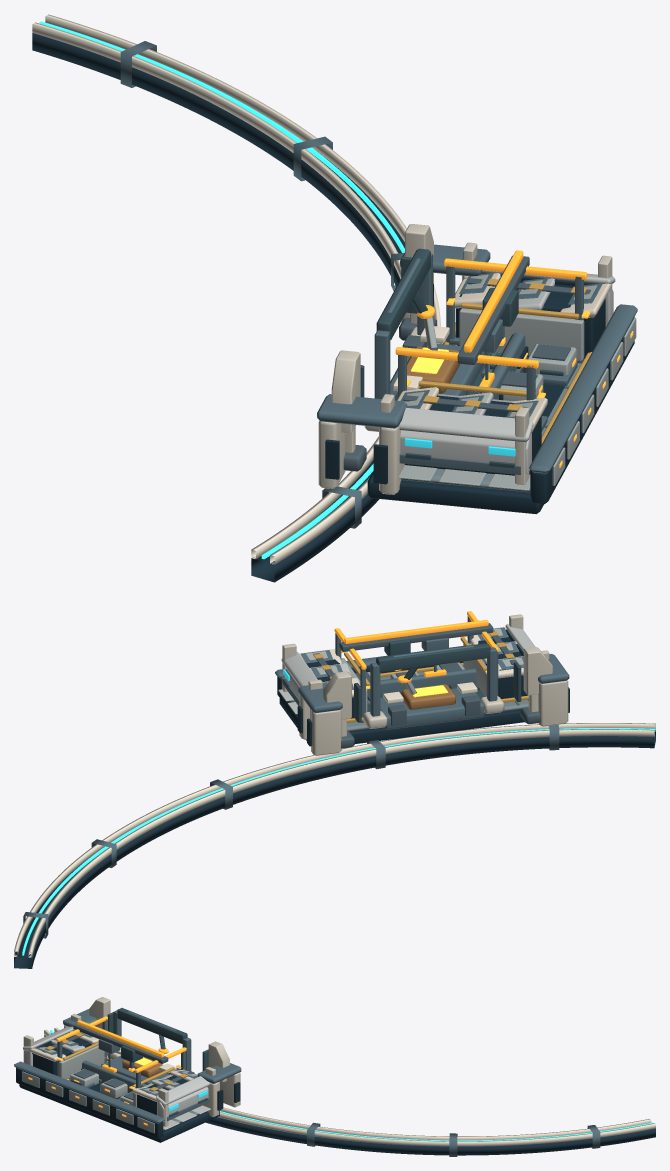
Rendered from equipment.glb.
3 renders of one model, top to bottom at view 1: azimuth 30°, elevation 25°; view 2: azimuth 150°, elevation 25°; view 3: azimuth 270°, elevation 25°, orthographic. The views are drawn at different scales.
Parts seen in each view (by area): view 1: Fine orbital pressure web.002, Fine ivory rail head.004, Fine ivory rail head.005, Manufacturing outer ivory sill, Manufacturing full pressure sole, Fabrication room armored inner wall.001, Fabrication continuous roof load shoulder, Orbital tram guide.002, Fabrication room continuous side pressure shell, Manufacturing track entry lintel, Overhead fabrication gantry, Manufacturing sloped load shoulder (+17 smaller); view 2: Fine orbital pressure web.002, Fine ivory rail head.004, Fine ivory rail head.005, Manufacturing full pressure sole, Overhead fabrication gantry, Orbital tram guide.002, Manufacturing recessed machine bed, Manufacturing track entry armor cheek.003, Manufacturing track entry armor cheek.001, Manufacturing outer pressure cavity wall, Factory traveling bridge dark undercarriage, Manufacturing sloped load shoulder (+8 smaller); view 3: Fine orbital pressure web.002, Fine ivory rail head.005, Fine ivory rail head.004, Manufacturing outer dark pressure sidewall, Manufacturing outer ivory sill, Manufacturing full pressure sole, Overhead fabrication gantry, Fabrication room armored inner wall, Orbital tram guide.002, Fabrication continuous roof load shoulder.001, Factory traveling bridge dark undercarriage, Fabrication room continuous dark hull (+14 smaller).
Part boxes in pixels (box(x1,y1,x2,y2)): Fine orbital pressure web.002: box(32, 33, 433, 582); Fine ivory rail head.004: box(32, 22, 401, 559); Fine ivory rail head.005: box(45, 14, 440, 564); Manufacturing outer ivory sill: box(529, 304, 637, 473); Manufacturing full pressure sole: box(367, 342, 543, 514); Fabrication room armored inner wall.001: box(459, 308, 584, 360); Fabrication continuous roof load shoulder: box(398, 407, 533, 442); Orbital tram guide.002: box(39, 21, 404, 559); Fabrication room continuous side pressure shell: box(400, 430, 531, 474); Manufacturing track entry lintel: box(317, 394, 407, 428); Overhead fabrication gantry: box(376, 248, 430, 339); Manufacturing sloped load shoulder: box(331, 350, 360, 433); Fine orbital pressure web.002: box(14, 730, 655, 968); Fine ivory rail head.004: box(28, 729, 654, 957); Fine ivory rail head.005: box(14, 723, 655, 956); Manufacturing full pressure sole: box(279, 695, 524, 743); Overhead fabrication gantry: box(376, 643, 490, 671); Orbital tram guide.002: box(22, 728, 655, 955); Manufacturing recessed machine bed: box(380, 688, 485, 729); Manufacturing track entry armor cheek.003: box(311, 709, 341, 755); Manufacturing track entry armor cheek.001: box(538, 680, 568, 726); Manufacturing outer pressure cavity wall: box(366, 668, 478, 695); Factory traveling bridge dark undercarriage: box(339, 623, 493, 651); Manufacturing sloped load shoulder: box(523, 647, 552, 695); Fine orbital pressure web.002: box(44, 1032, 655, 1155); Fine ivory rail head.005: box(44, 1029, 655, 1146); Fine ivory rail head.004: box(54, 1027, 651, 1140); Manufacturing outer dark pressure sidewall: box(16, 1067, 163, 1138); Manufacturing outer ivory sill: box(14, 1061, 164, 1123); Manufacturing full pressure sole: box(19, 1084, 219, 1142); Overhead fabrication gantry: box(117, 1008, 187, 1043); Fabrication room armored inner wall: box(58, 1045, 104, 1079); Orbital tram guide.002: box(50, 1030, 652, 1141); Fabrication continuous roof load shoulder.001: box(156, 1076, 209, 1105); Factory traveling bridge dark undercarriage: box(73, 1023, 168, 1063); Fabrication room continuous dark hull: box(33, 1035, 92, 1075).
Bounding box in the file's own units: 4.19 × 1.33 × 9.57.
